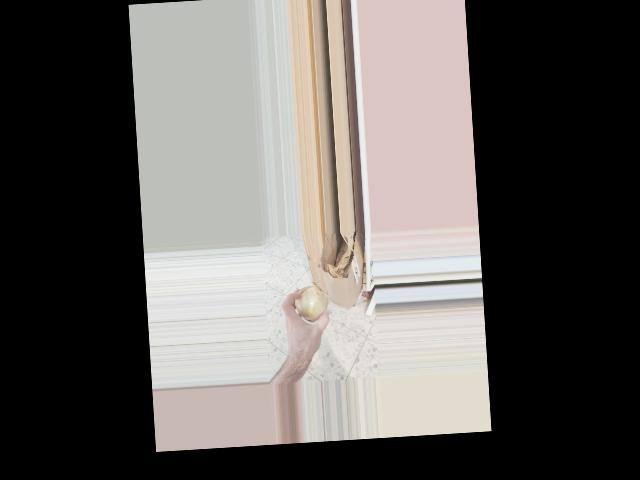onion: (291, 278, 329, 325)
